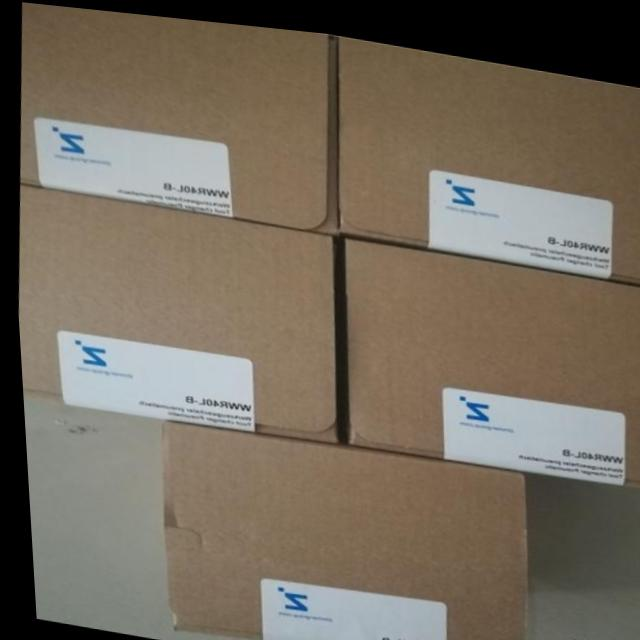box: (14, 182, 333, 438), (156, 418, 520, 640), (339, 228, 640, 476), (335, 28, 640, 271), (17, 2, 336, 228)
